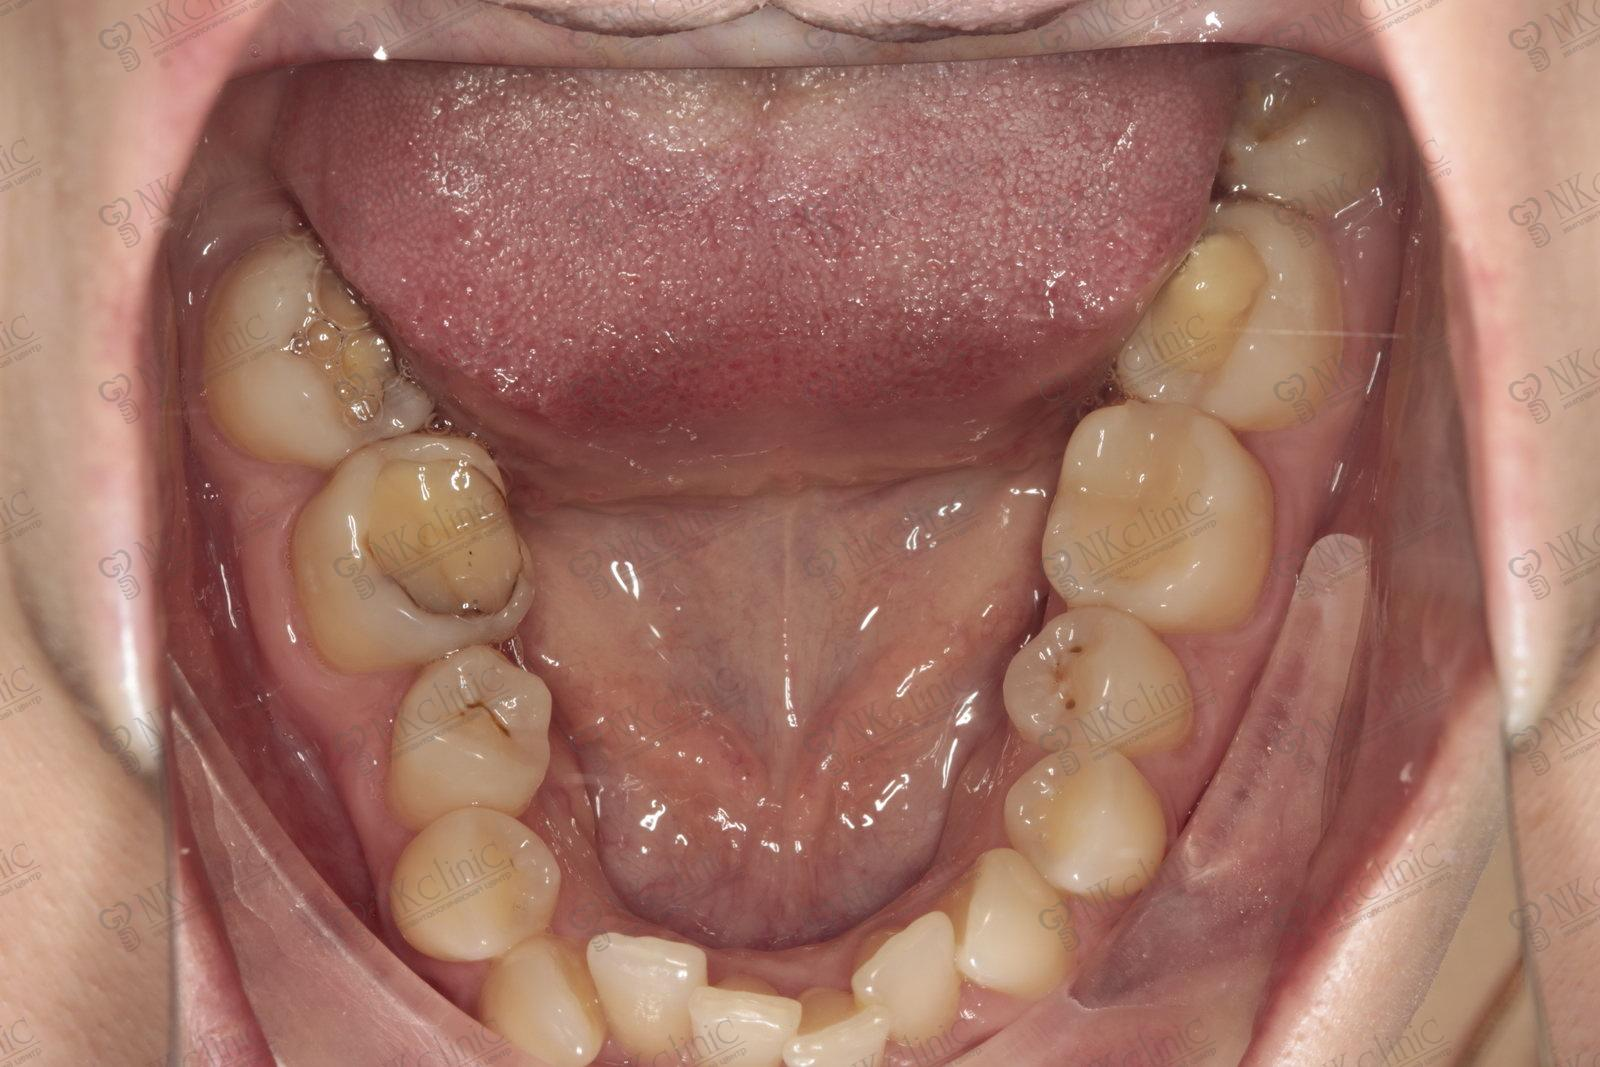LL1BC_healthy: (1002, 749, 1176, 901)
LL1M_healthy: (1046, 406, 1279, 626)
LL2BC_decay: (996, 607, 1199, 741)
LL2M_decay: (1120, 200, 1340, 430)
LL3M_decay: (1221, 46, 1407, 226)
LLCI_healthy: (774, 971, 885, 1067)
LLC_healthy: (954, 835, 1087, 1002)
LLLI_healthy: (850, 915, 971, 1052)
LR1BC_healthy: (376, 806, 569, 967)
LR1M_decay: (274, 439, 533, 664)
LR2BC_decay: (385, 642, 564, 812)
LR2M_decay: (192, 226, 433, 458)
LRCI_healthy: (686, 963, 810, 1067)
LRC_healthy: (485, 941, 593, 1067)
LRLI_healthy: (594, 921, 719, 1067)
